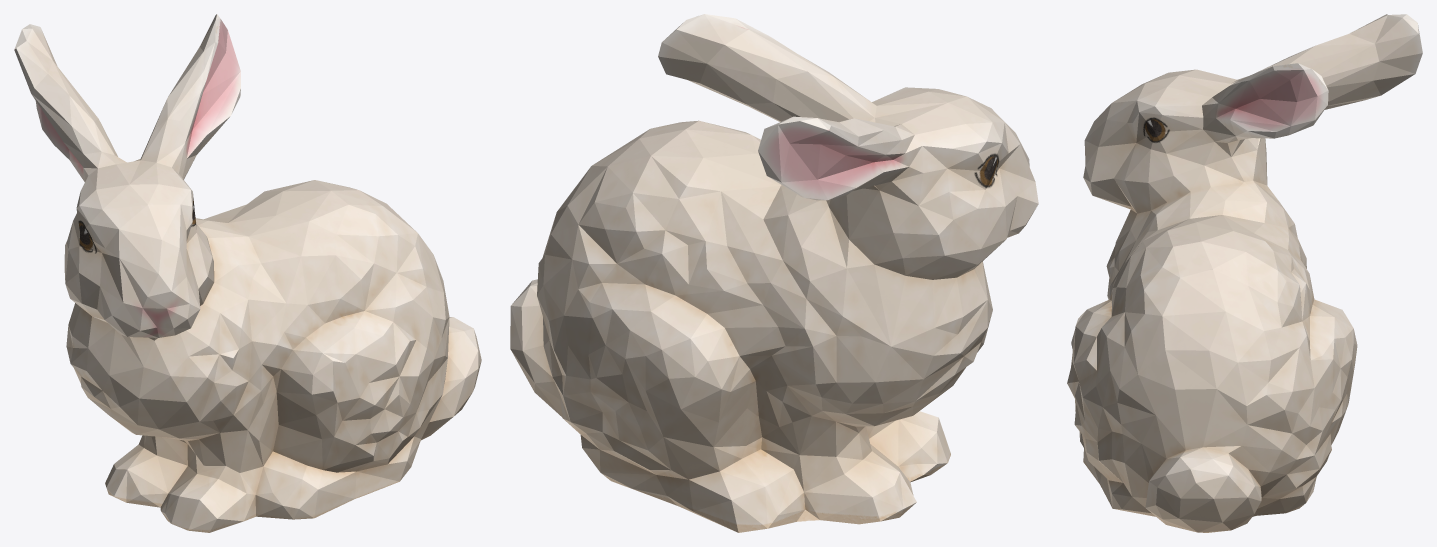
Rendered from bunny.obj.
3 views of the same model, side by side, from view 1: azimuth 30°, elevation 25°; view 2: azimuth 150°, elevation 25°; view 3: azimuth 270°, elevation 25° (orthographic). The views are drawn at different scales.
Visible parts, largest first — view 1: bunny_bunny.002; view 2: bunny_bunny.002; view 3: bunny_bunny.002.
Boxes of the visible parts, left/top/right/bottom form: bunny_bunny.002: left=14, top=14, right=481, bottom=532; bunny_bunny.002: left=510, top=14, right=1038, bottom=532; bunny_bunny.002: left=1067, top=14, right=1422, bottom=532.
Size of the model in its own units: 0.1923 by 0.1909 by 0.1498.
1 material, 1 textured.
